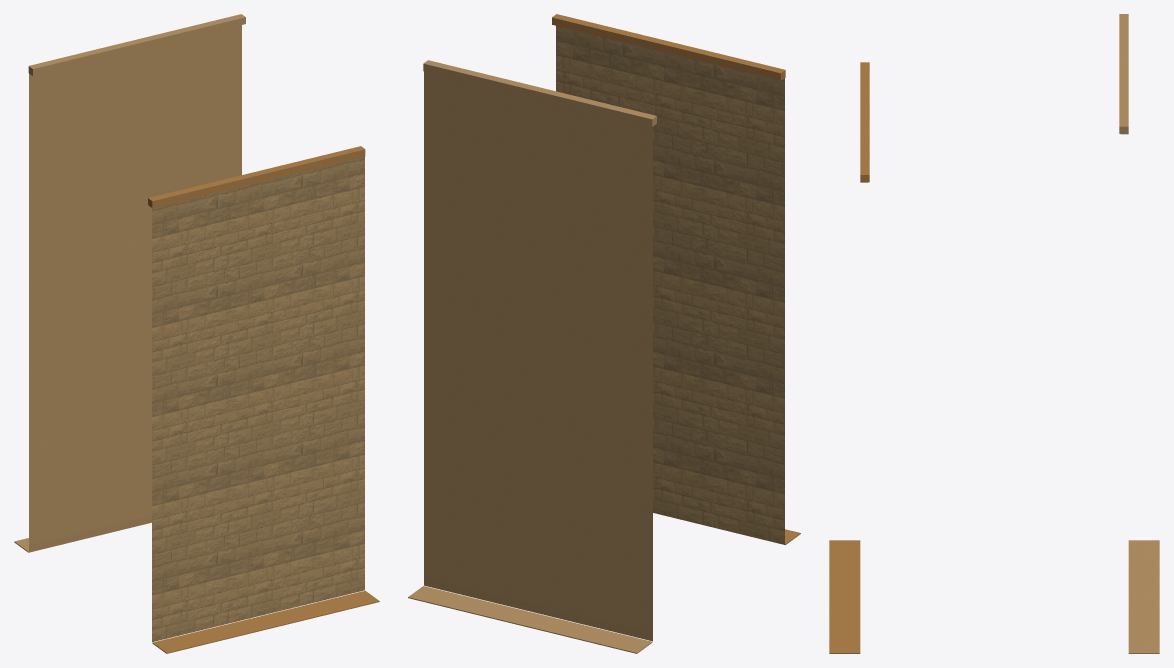
Rendered from unit-link-east-mid.glb.
3 views of the same model, side by side, from view 1: azimuth 30°, elevation 25°; view 2: azimuth 150°, elevation 25°; view 3: azimuth 270°, elevation 25° (orthographic). The views are drawn at different scales.
Visible parts, largest first — view 1: bz06_dressed_sandstone-cast, bz06_sand_plaster-cast, bz06_faded_ochre-cast; view 2: bz06_sand_plaster-cast, bz06_dressed_sandstone-cast, bz06_faded_ochre-cast; view 3: bz06_faded_ochre-cast, bz06_sand_plaster-cast.
Boxes of the visible parts, x1,y1,x2,y2 form: bz06_dressed_sandstone-cast: (152,156,364,642); bz06_sand_plaster-cast: (14,14,245,552); bz06_faded_ochre-cast: (148,146,379,653); bz06_sand_plaster-cast: (408,60,656,653); bz06_dressed_sandstone-cast: (556,26,784,544); bz06_faded_ochre-cast: (552,14,800,544); bz06_faded_ochre-cast: (829,62,869,653); bz06_sand_plaster-cast: (1119,14,1159,653).
Bounding box in the file's own units: 5 × 10.92 × 6.2.
Materials: 3 (3 with a texture image).
